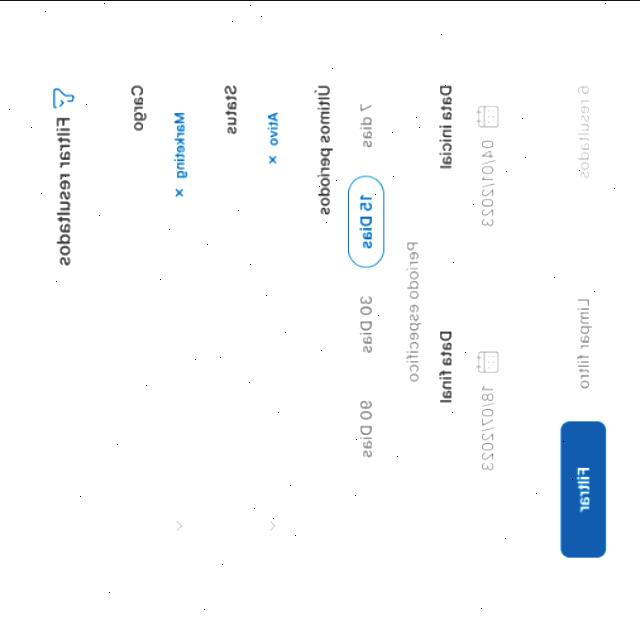QLabel: (312, 78, 333, 214), (404, 238, 424, 380), (56, 113, 74, 264), (575, 80, 593, 180), (576, 294, 592, 388), (438, 80, 454, 168), (438, 327, 454, 405), (356, 192, 376, 248), (128, 82, 148, 130), (358, 398, 374, 458), (223, 80, 239, 132), (360, 293, 374, 352), (576, 464, 592, 512), (358, 101, 374, 145)
VBtn: (560, 274, 606, 412), (560, 419, 606, 557)
VCard: (20, 45, 628, 595)
VChip: (346, 380, 386, 476), (347, 276, 385, 370), (347, 174, 385, 266), (347, 83, 385, 165)
VCombobox: (151, 81, 209, 558), (244, 83, 302, 557)
VDivider: (538, 44, 548, 594), (100, 45, 108, 593), (410, 388, 414, 538), (410, 82, 414, 230)
VIcon: (50, 84, 76, 108)
VInlineDatepicker: (459, 82, 516, 312), (459, 328, 516, 558)
